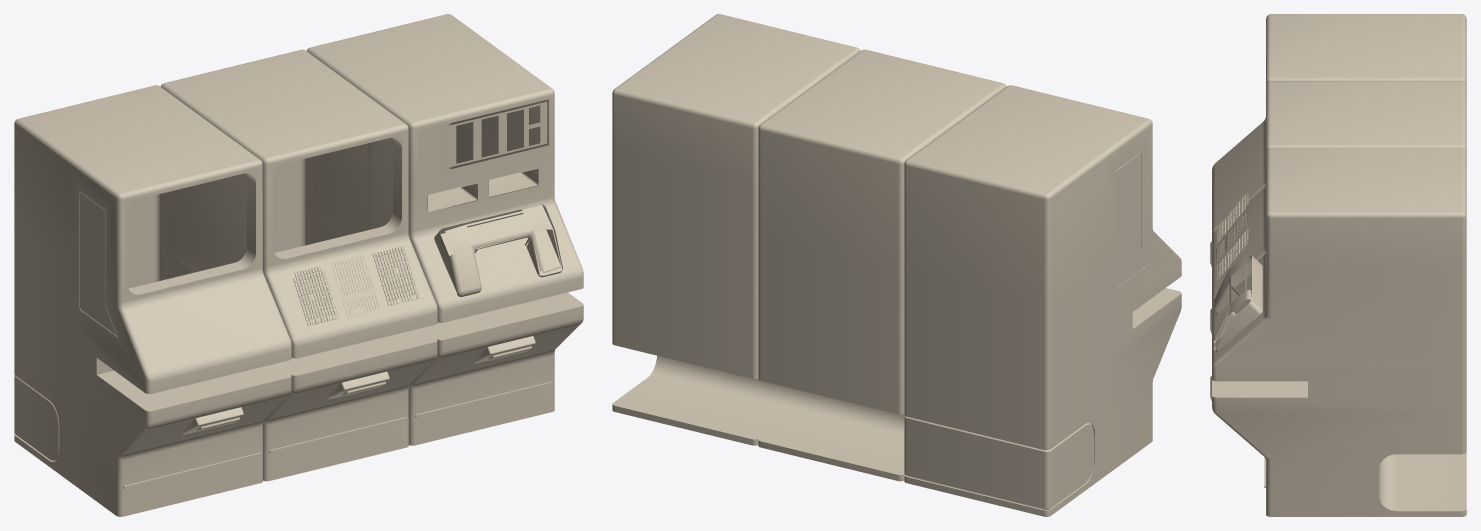
The picture shows the model from 3 angles, left to right: view 1: azimuth 30°, elevation 25°; view 2: azimuth 150°, elevation 25°; view 3: azimuth 270°, elevation 25°; orthographic projection. The views are drawn at different scales.
Visible parts, largest first — view 1: Object_19; view 2: Object_19; view 3: Object_19.
Part boxes in pixels (x1,y1,x2,y2): Object_19: (14,14,583,516); Object_19: (612,14,1181,516); Object_19: (1210,14,1466,516).
Bounding box in the file's own units: 2.01 × 1.41 × 1.08.
